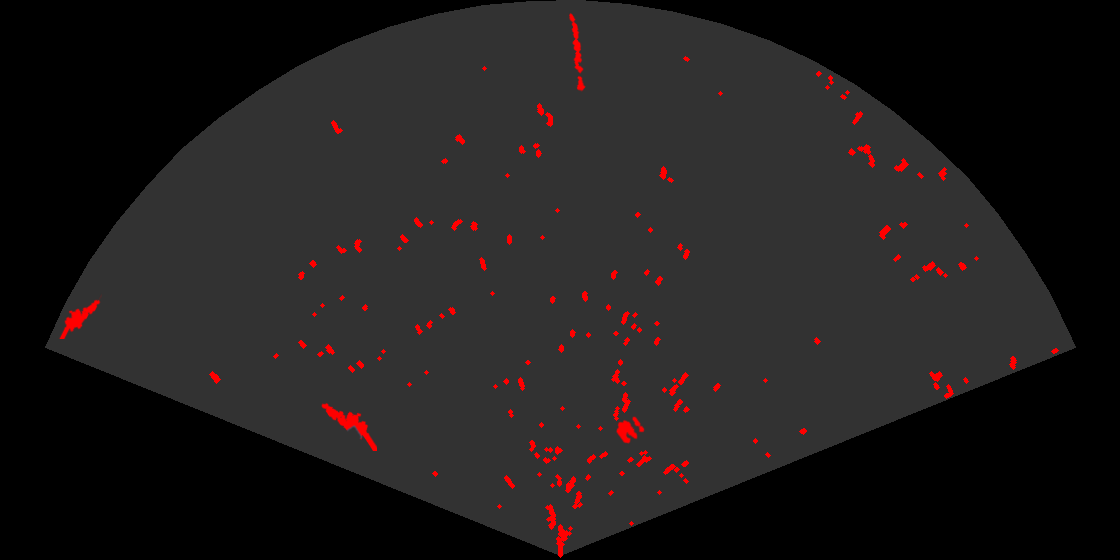ball: (615, 415, 646, 445)
chain: (568, 11, 587, 92)
frogman: (320, 401, 377, 451), (57, 293, 102, 339)
